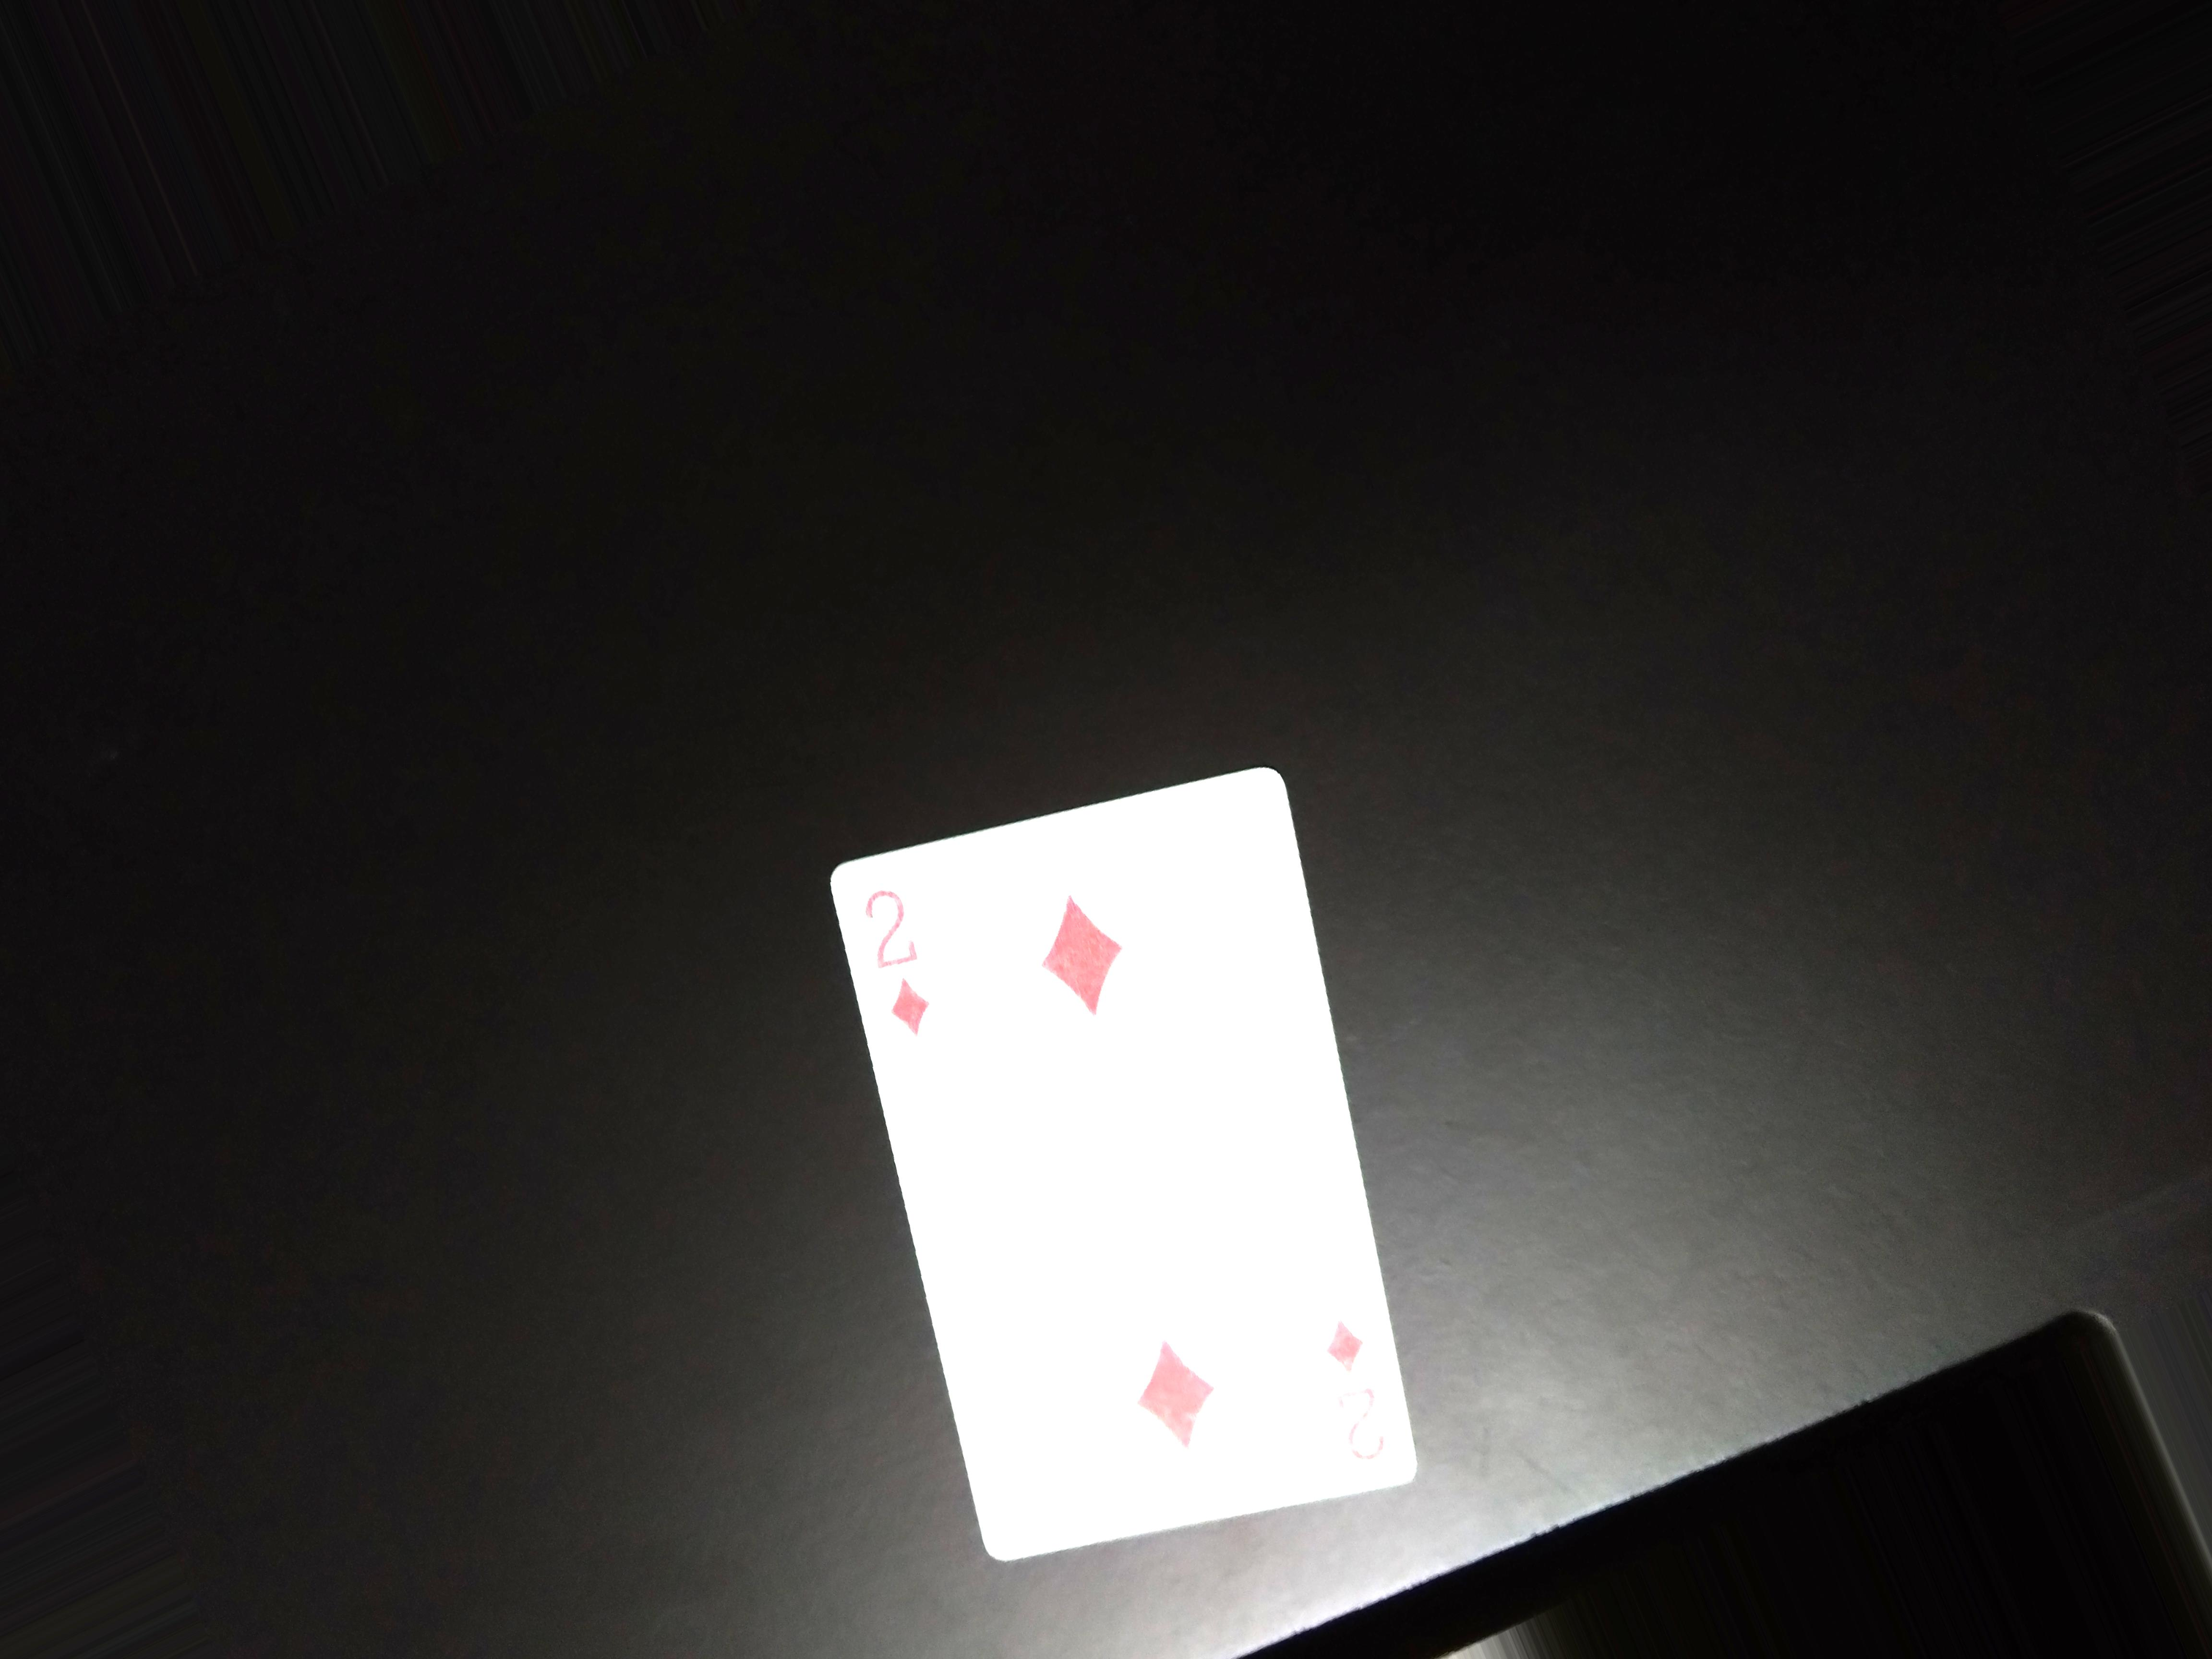2D: (848, 870, 963, 1075)
